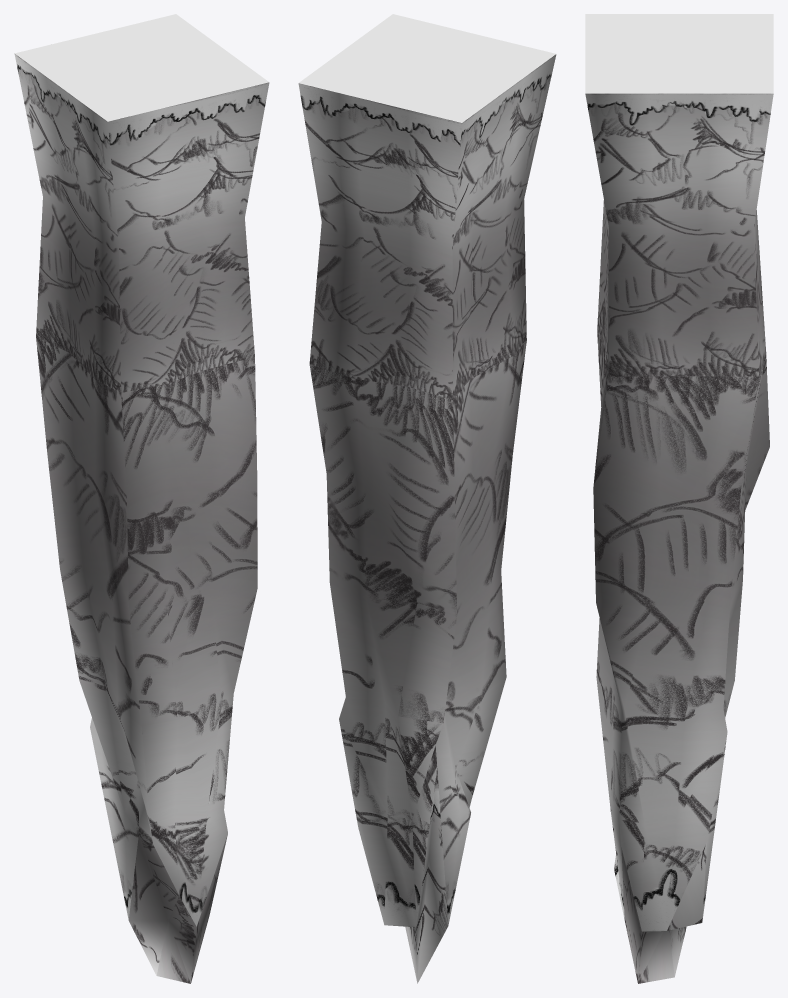
Rendered from 2x2x10_Island.fbx.
3 renders of one model, left to right at view 1: azimuth 30°, elevation 25°; view 2: azimuth 150°, elevation 25°; view 3: azimuth 270°, elevation 25°, orthographic.
Parts seen in each view (by area): view 1: 2x2x10_Island; view 2: 2x2x10_Island; view 3: 2x2x10_Island.
Boxes of the visible parts, left/top/right/bottom form: 2x2x10_Island: left=14, top=14, right=269, bottom=983; 2x2x10_Island: left=298, top=14, right=556, bottom=983; 2x2x10_Island: left=585, top=14, right=773, bottom=983.
Size of the model in its own units: 200 by 1075 by 200.
